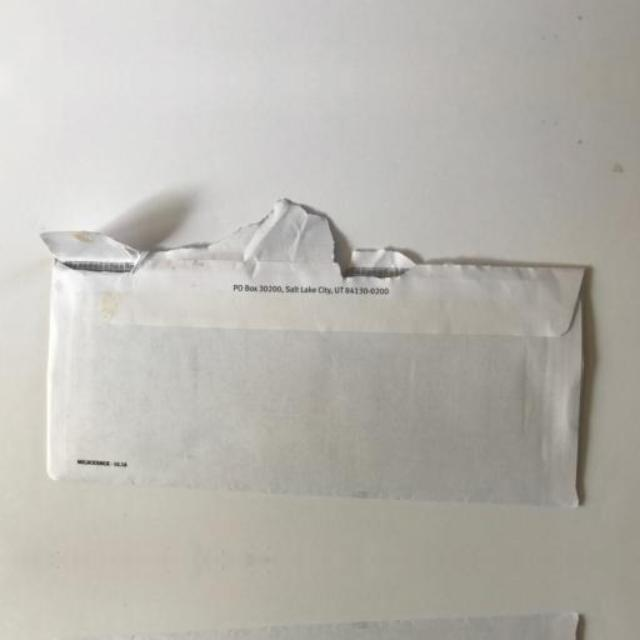paper: (37, 196, 586, 508), (36, 612, 585, 640)
